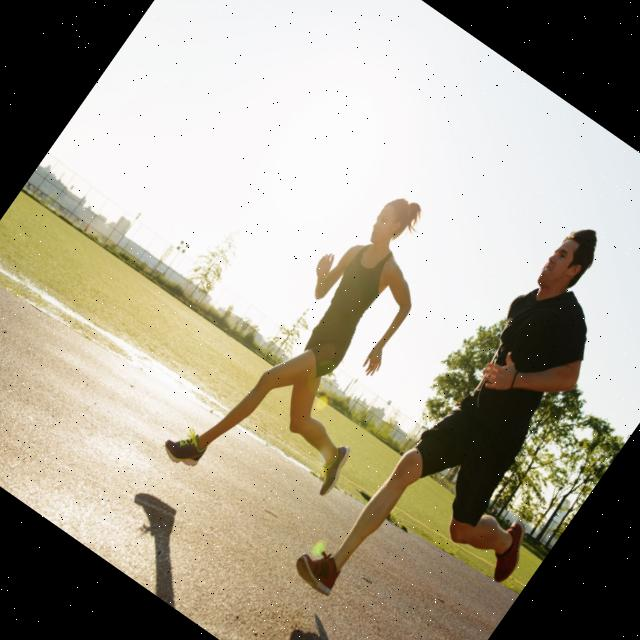Person: (287, 197, 640, 640), (160, 162, 494, 544)
